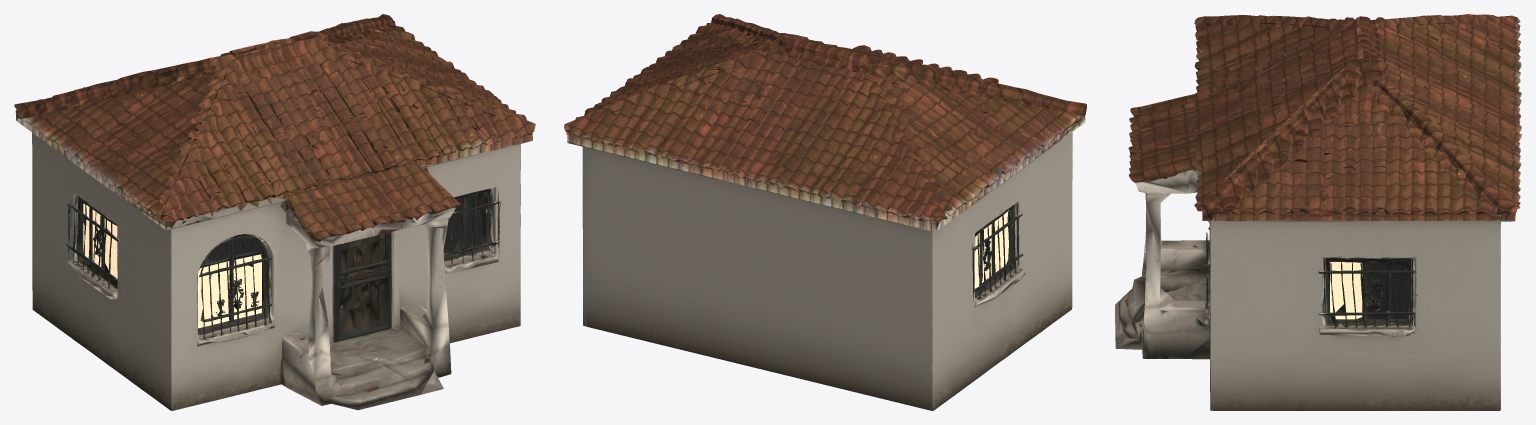
File: house-spanish-tile.glb
3 renders of one model, left to right at view 1: azimuth 30°, elevation 25°; view 2: azimuth 150°, elevation 25°; view 3: azimuth 270°, elevation 25°, orthographic. The views are drawn at different scales.
Bounding box in the file's own units: 6.5 × 4.5 × 5.81.
Materials: 5 (5 with a texture image).
